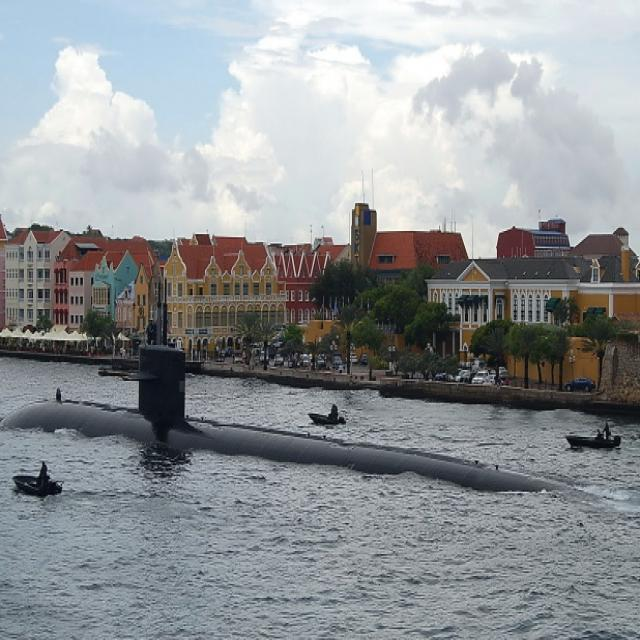submarine: (14, 338, 640, 512)
